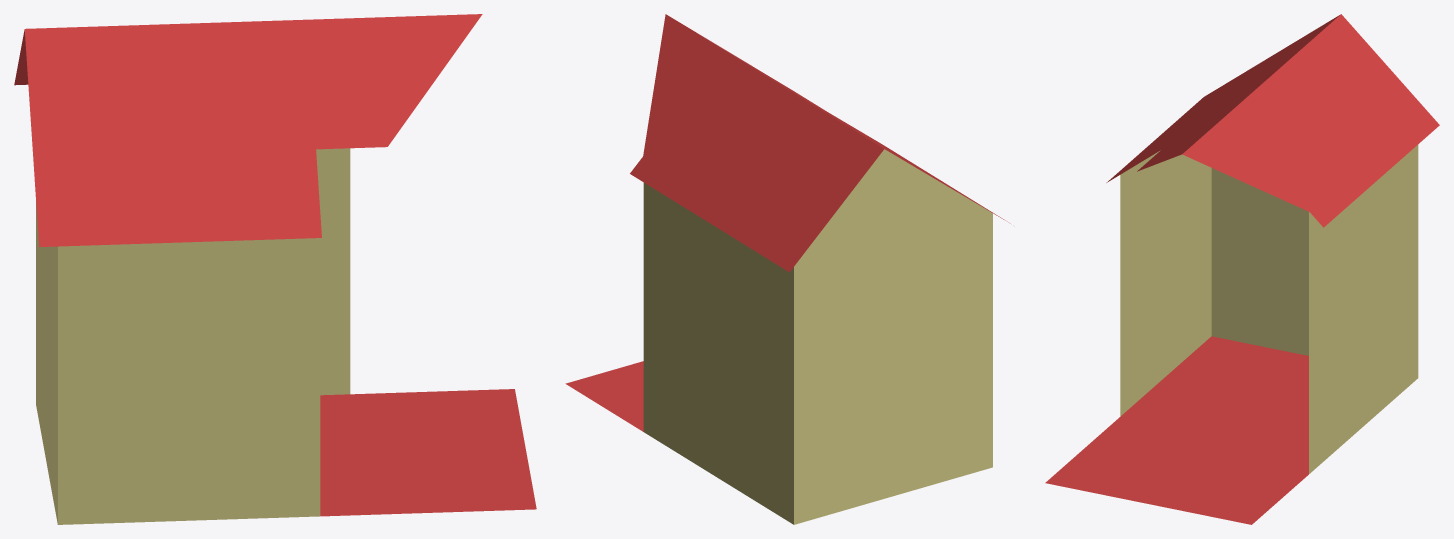
3 renders of one model, left to right at view 1: azimuth 30°, elevation 25°; view 2: azimuth 150°, elevation 25°; view 3: azimuth 270°, elevation 25°, orthographic. The views are drawn at different scales.
Size of the model in its own units: 14.4 by 12.15 by 11.58.
